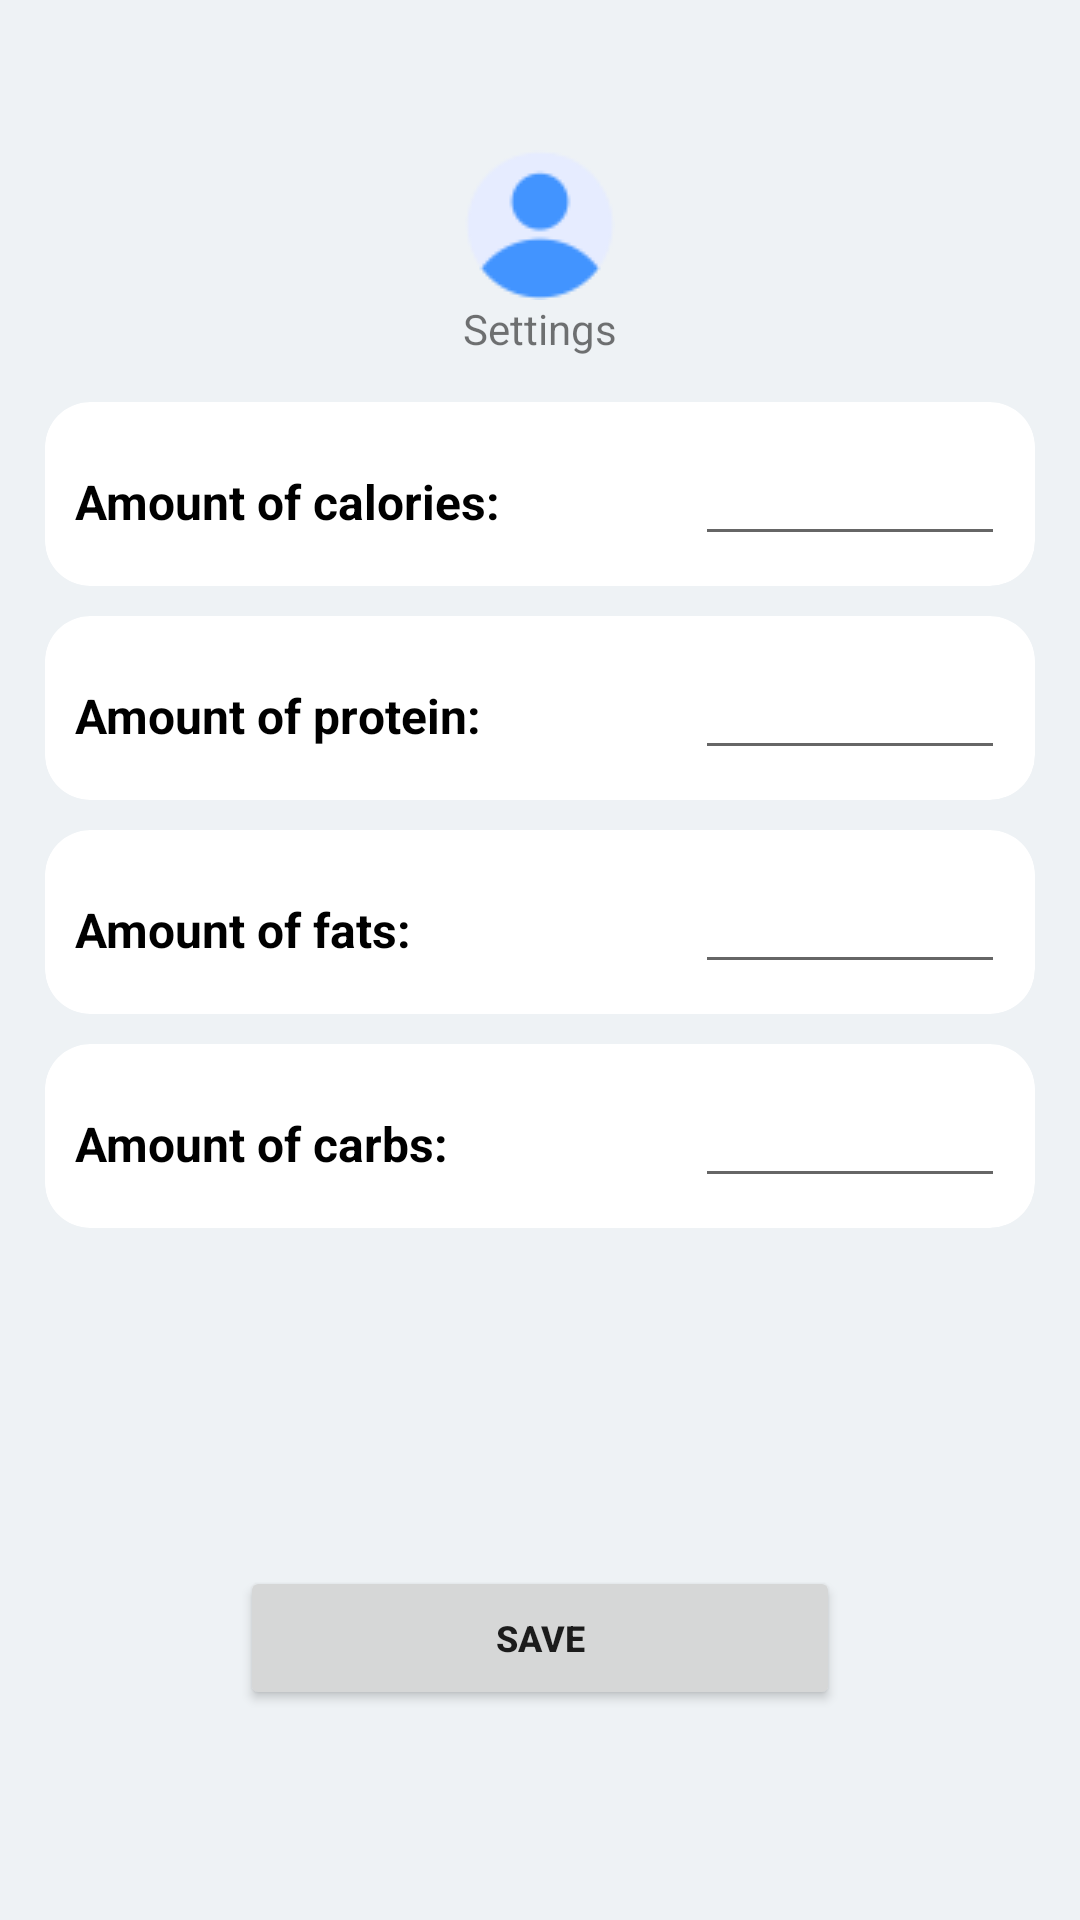

Where to tap for icons on this 1080×1920 app screen, as (x=x, y=y):
user: (x=540, y=235)
